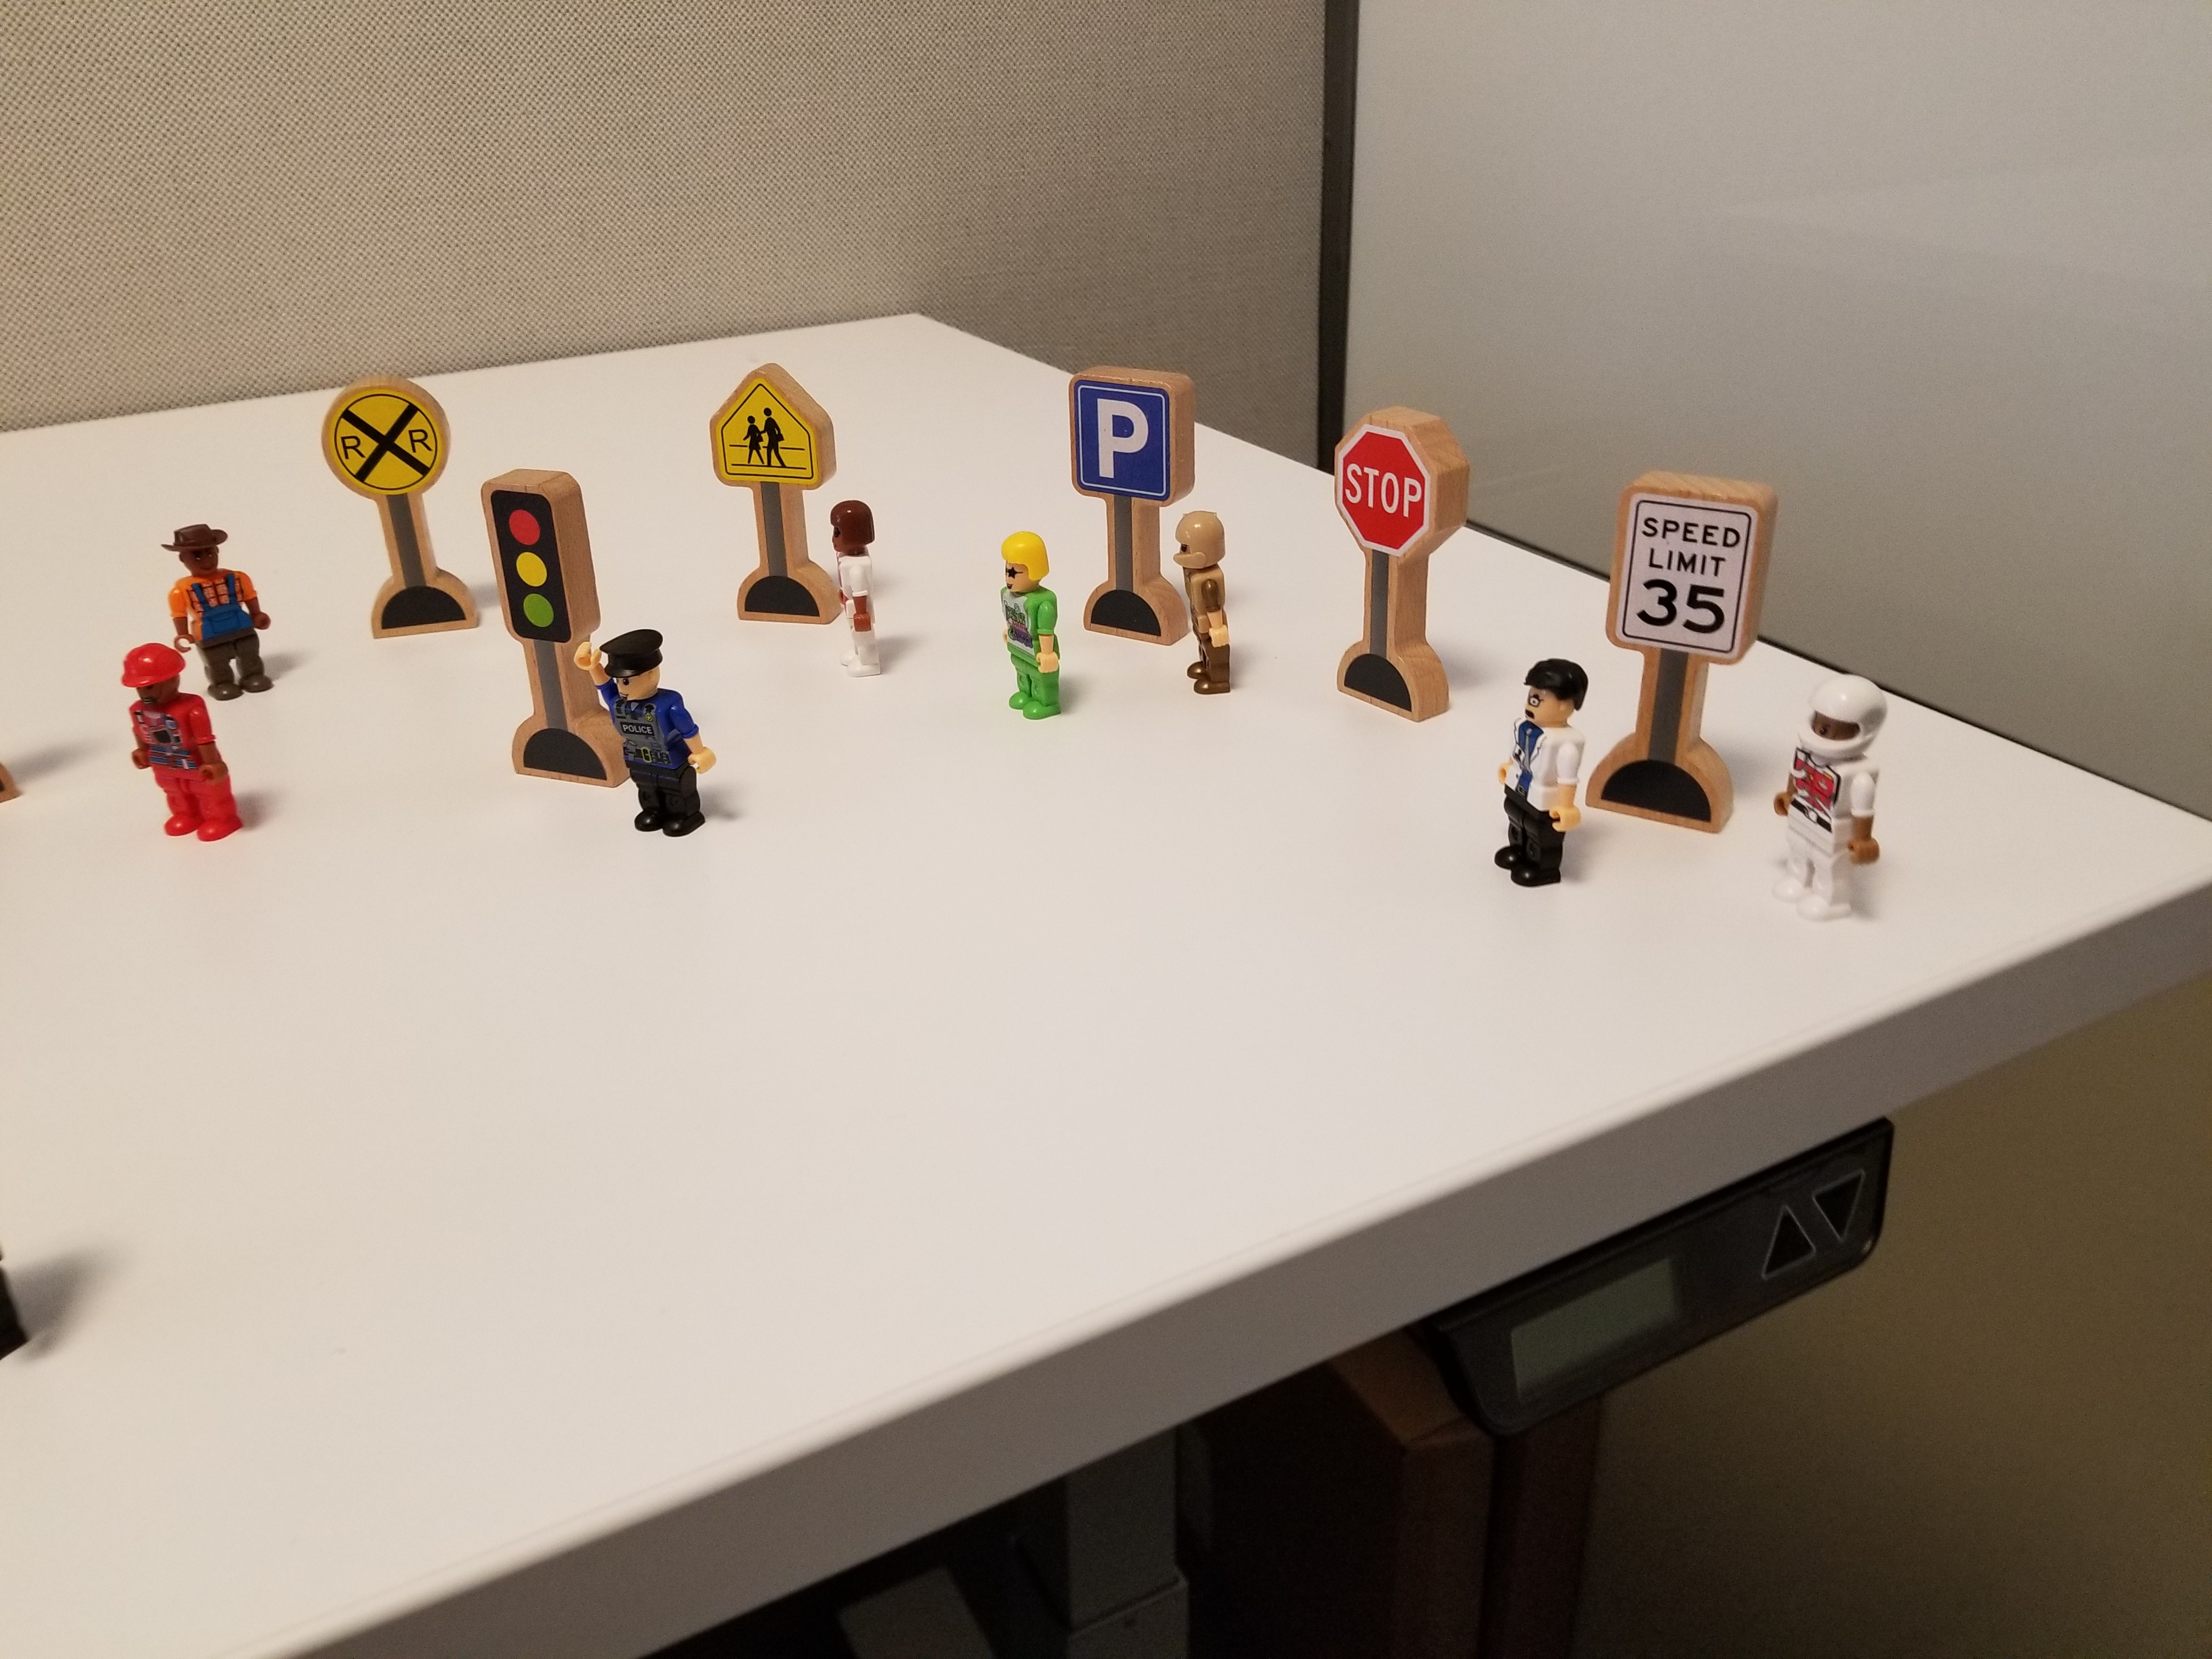Parking: (1065, 326, 1186, 675)
Pedestrian crossing: (695, 346, 848, 622)
Railroad Crossing: (291, 365, 484, 684)
Speed limit 35: (1607, 455, 1768, 853)
Stop: (1318, 392, 1469, 774)
Traffic Light: (471, 449, 611, 787)
person: (91, 627, 273, 896), (552, 611, 736, 874), (1776, 659, 1906, 967), (956, 490, 1090, 719), (157, 495, 291, 719), (1502, 635, 1590, 914), (813, 488, 907, 714), (1149, 508, 1243, 732)
